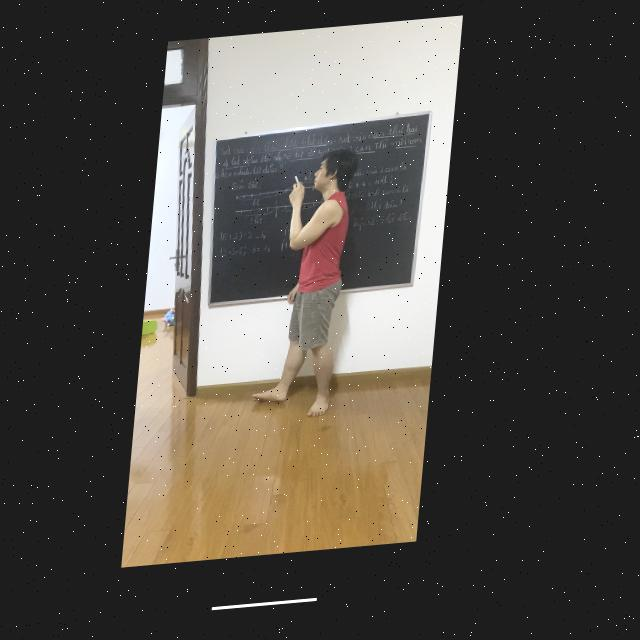cigarette: (298, 182, 303, 190)
